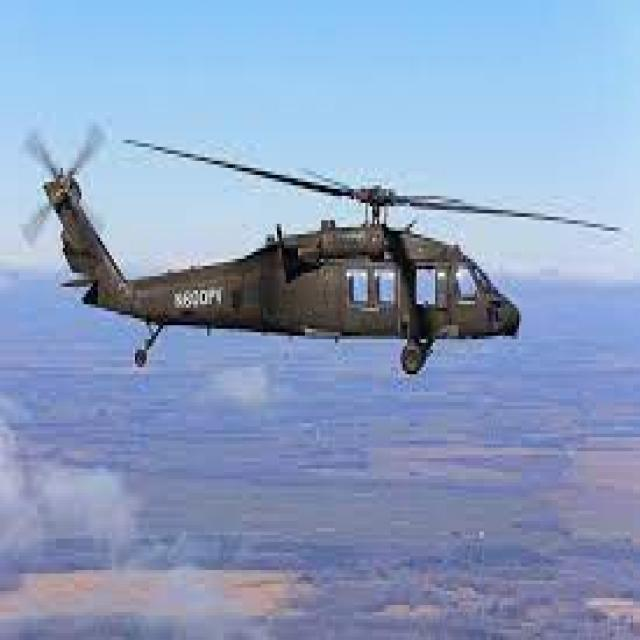plane: (14, 106, 630, 388)
